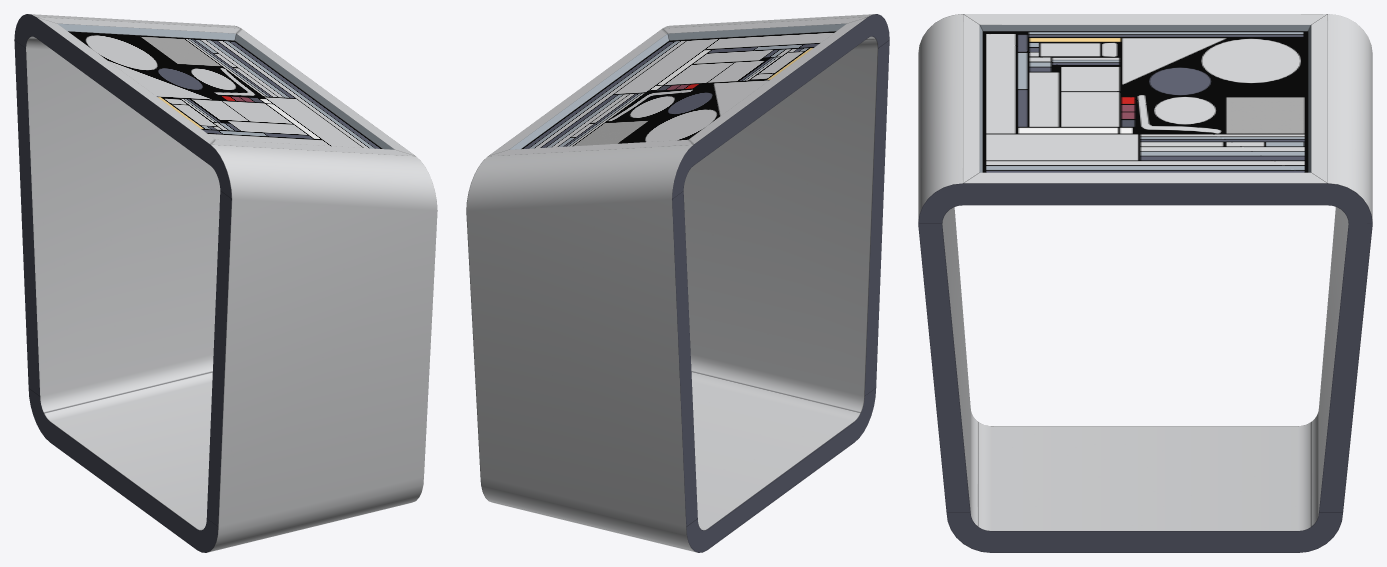
Rendered from Console_01.FBX.
3 renders of one model, left to right at view 1: azimuth 30°, elevation 25°; view 2: azimuth 150°, elevation 25°; view 3: azimuth 270°, elevation 25°, orthographic. The views are drawn at different scales.
Parts seen in each view (by area): view 1: Console_01, Screen; view 2: Console_01, Screen; view 3: Console_01, Screen.
Boxes of the visible parts, <box> form: Console_01: <box>14,14,437,552</box>; Screen: <box>68,31,381,148</box>; Console_01: <box>466,14,889,552</box>; Screen: <box>522,31,835,148</box>; Console_01: <box>918,14,1372,552</box>; Screen: <box>982,31,1308,172</box>.
Size of the model in its own units: 0.6164 by 1.19 by 1.13.
Materials: 1 (1 with a texture image).
